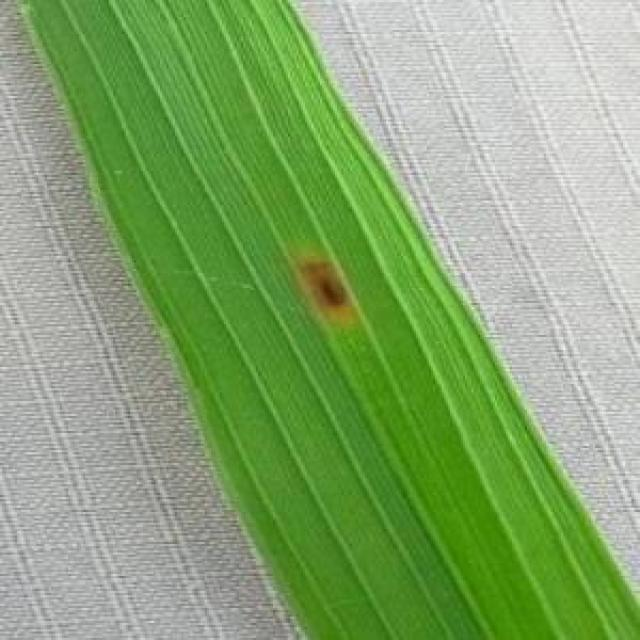brownspots: (294, 252, 354, 318)
